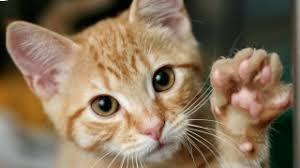Gato: (15, 6, 212, 161)
